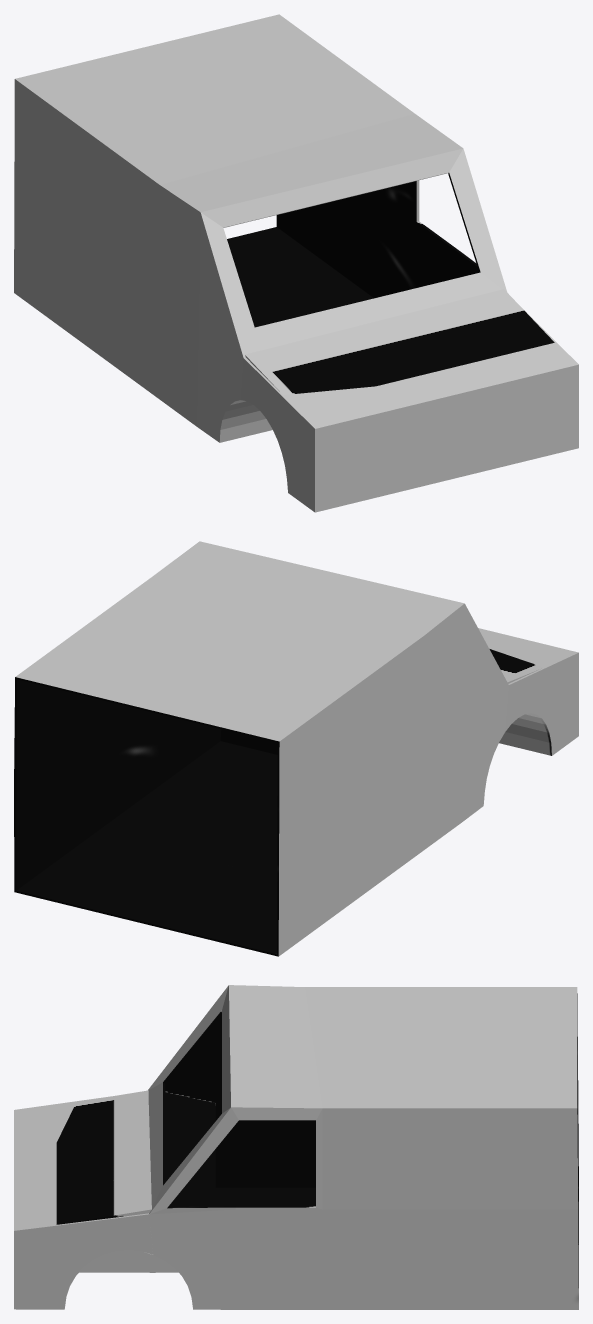
Rendered from car_interior.glb.
3 views of the same model, one above another, from view 1: azimuth 30°, elevation 25°; view 2: azimuth 150°, elevation 25°; view 3: azimuth 270°, elevation 25° (orthographic). The views are drawn at different scales.
Visible parts, largest first — view 1: Cube; view 2: Cube; view 3: Cube.
Boxes of the visible parts, <box> form: Cube: <box>14,14,578,512</box>; Cube: <box>14,541,578,956</box>; Cube: <box>14,985,578,1309</box>.
Bounding box in the file's own units: 1.04 × 0.809 × 2.03.
Materials: 1 (1 with a texture image).
